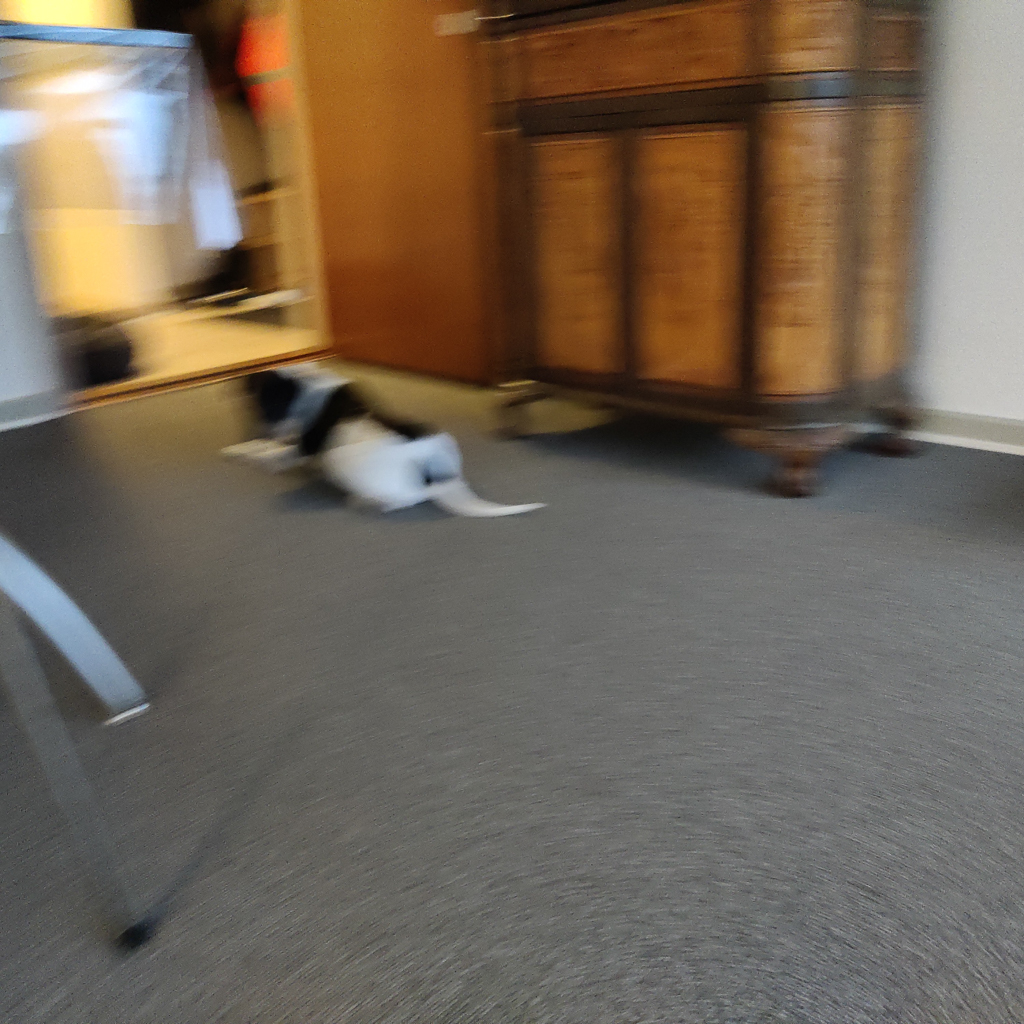Dog: (186, 344, 561, 530)
